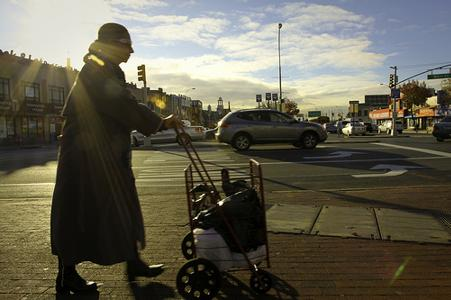person: (50, 23, 186, 300)
